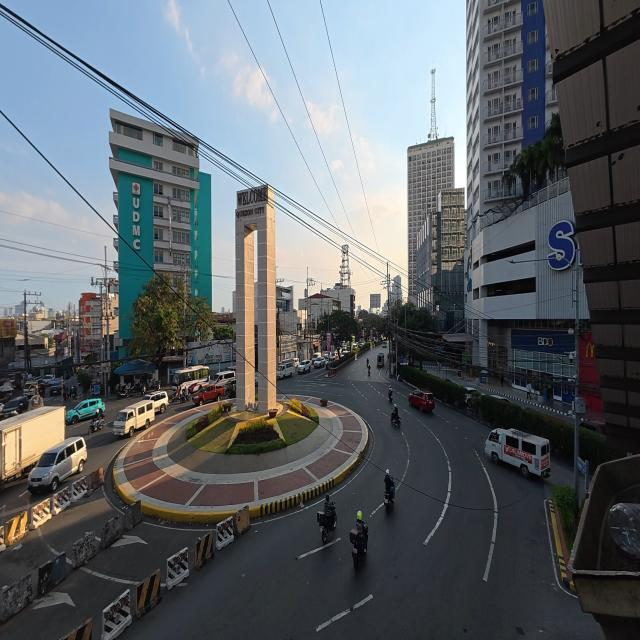Jeepneys: (377, 354, 384, 367)
bus: (172, 366, 209, 392)
car: (66, 398, 105, 424), (193, 384, 225, 405), (0, 396, 29, 419), (143, 391, 168, 413), (409, 389, 434, 411), (581, 420, 605, 434), (188, 381, 208, 395), (465, 387, 481, 404), (49, 378, 62, 395), (224, 380, 236, 398), (490, 394, 510, 403), (298, 360, 311, 373), (41, 375, 54, 386), (313, 356, 324, 368), (294, 358, 299, 369), (255, 373, 259, 386), (381, 342, 387, 350)
motorcycle: (317, 503, 336, 544), (350, 529, 365, 569), (89, 412, 104, 434), (384, 491, 393, 513), (118, 385, 129, 398), (391, 414, 401, 427), (180, 393, 190, 403), (171, 391, 179, 402), (140, 384, 147, 396), (388, 391, 392, 402), (368, 367, 370, 376)
trucks: (0, 407, 64, 481)
vans: (28, 437, 87, 493), (485, 429, 550, 477), (113, 400, 154, 436), (211, 370, 235, 386), (277, 360, 296, 378), (23, 382, 38, 398), (311, 353, 321, 361)
